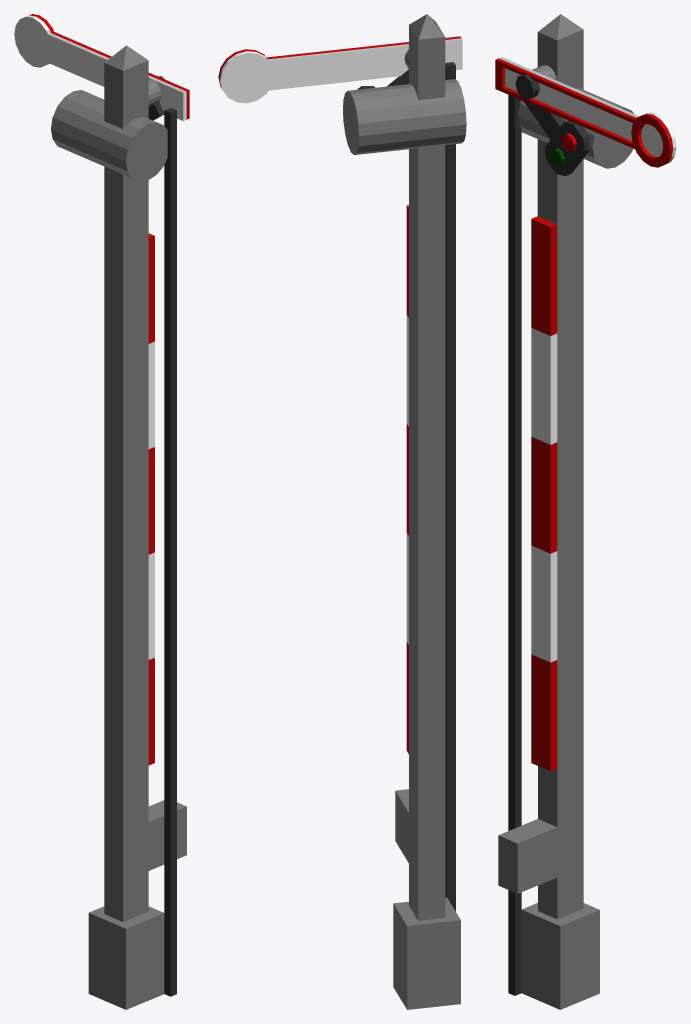
The model's file is GMLID_5361967_192822_672.dae.
3 views of the same model, side by side, from view 1: azimuth 90°, elevation 25°; view 2: azimuth 150°, elevation 25°; view 3: azimuth 270°, elevation 25° (orthographic). The views are drawn at different scales.
Bounding box in the file's own units: 2.9 × 2.35 × 14.04.
